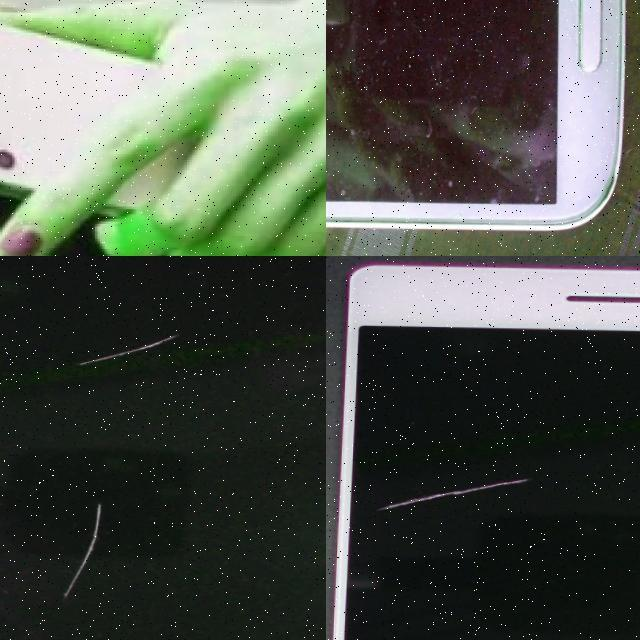scratch: (50, 317, 207, 387), (40, 491, 126, 610), (375, 474, 536, 512)
